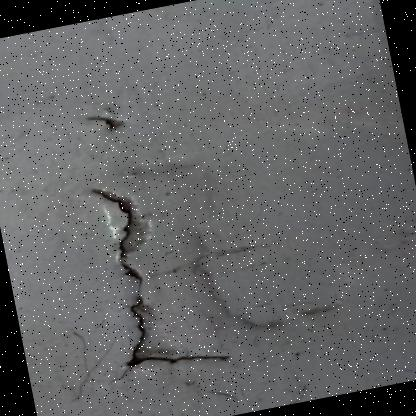Crack: (0, 43, 373, 415)
